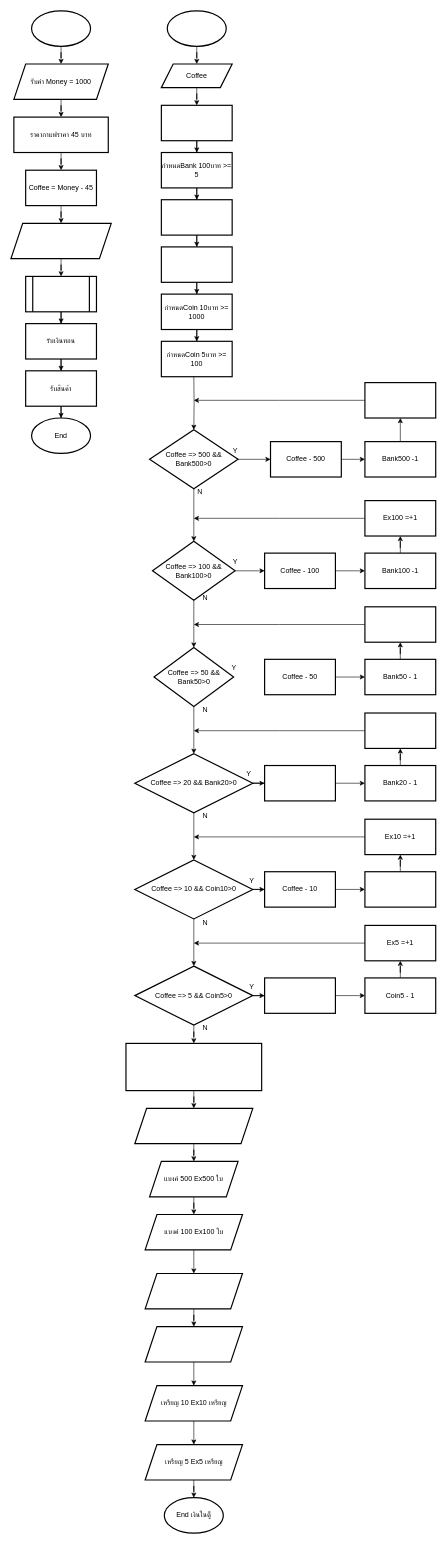
The diagram is 446 pixels wide and 1543 high, and some of its shapes have lost their labels. The shapes that lost their labels are listed below. From the top down, each one's centre as x and y in pixels, then its label:
At point (61, 28): "Start".
At point (196, 28): "Start เงินในตู้".
At point (196, 122): "กำหนดBank 500บาท >= 0".
At point (196, 217): "กำหนดBank 50บาท >= 20".
At point (61, 240): "ยอดเงินมีในตู้ Coffee".
At point (196, 264): "กำหนดBank 20บาท >= 10".
At point (61, 294): "เงินในตู้".
At point (400, 400): "Ex500 =+1".
At point (400, 624): "Ex50 =+1".
At point (400, 730): "Ex20 =+1".
At point (300, 783): "Coffee - 20".
At point (400, 889): "Coin10 - 1".
At point (300, 995): "Coffee - 5".
At point (193, 1067): "All_Ex = Ex5+Ex10+Ex20+Ex50+Ex100+Ex500".
At point (193, 1125): "แบงค์ที่ถอนทั้งหมด All_Ex ใบ".
At point (193, 1291): "แบงค์ 50 Ex50 ใบ".
At point (193, 1344): "แบงค์ 20 Ex20 ใบ".
